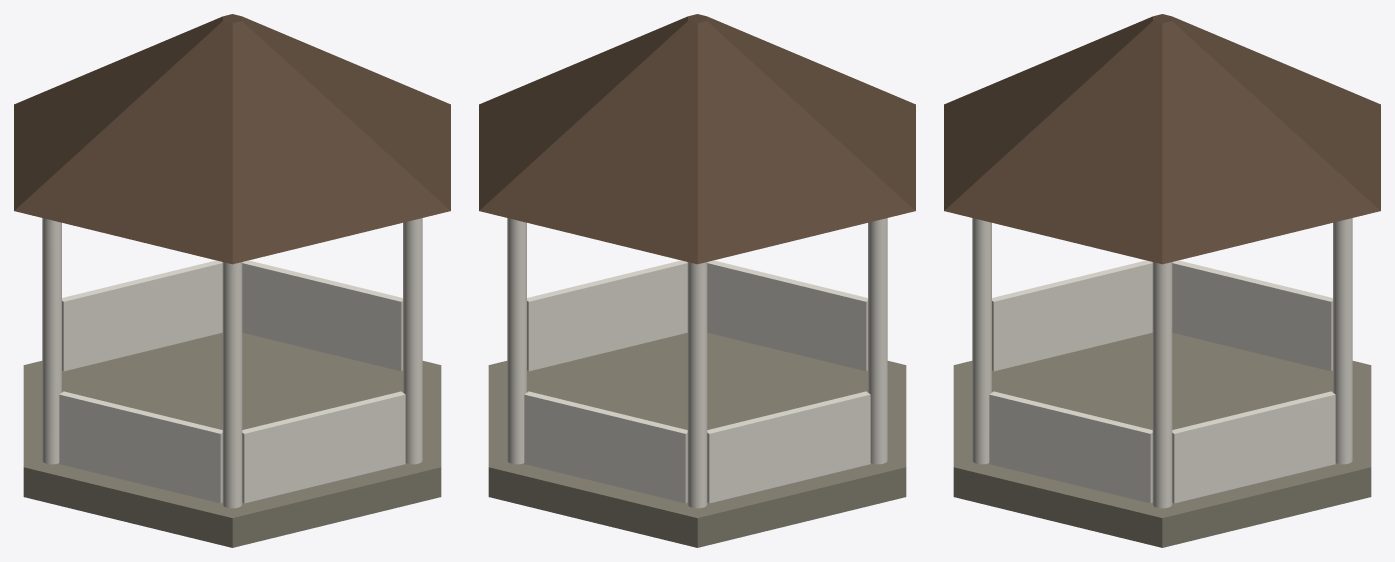
The model's file is a09-gazebo-hexagonal.glb.
3 views of the same model, side by side, from view 1: azimuth 30°, elevation 25°; view 2: azimuth 150°, elevation 25°; view 3: azimuth 270°, elevation 25° (orthographic).
Visible parts, largest first — view 1: part3, part2, part0, part1; view 2: part3, part2, part0, part1; view 3: part3, part2, part0, part1.
Boxes of the visible parts, box(x1,y1,x2,y2) form: part3: box(14, 14, 450, 264); part2: box(59, 260, 405, 503); part0: box(23, 332, 441, 547); part1: box(42, 218, 422, 508); part3: box(479, 14, 915, 264); part2: box(524, 260, 870, 503); part0: box(488, 332, 906, 547); part1: box(507, 218, 887, 508); part3: box(944, 14, 1380, 264); part2: box(989, 260, 1335, 503); part0: box(953, 332, 1371, 547); part1: box(972, 218, 1352, 508).
Size of the model in its own units: 4600 by 4300 by 3984.
